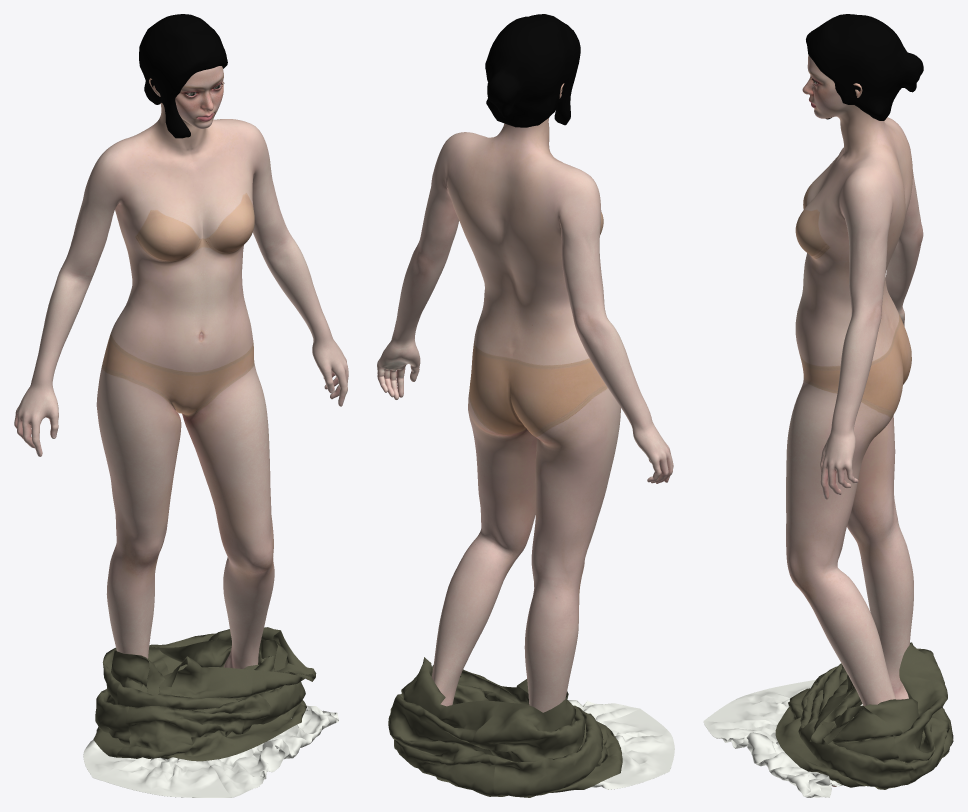
The model's file is random.obj.
The picture shows the model from 3 angles, left to right: view 1: azimuth 30°, elevation 25°; view 2: azimuth 150°, elevation 25°; view 3: azimuth 270°, elevation 25°; orthographic projection. The views are drawn at different scales.
Size of the model in its own units: 775 by 1773 by 554.
